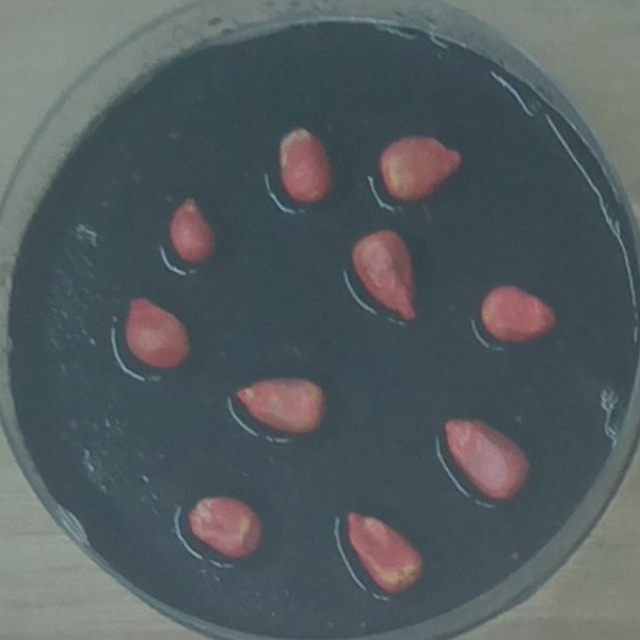Zea mays: (435, 409, 536, 508), (343, 220, 425, 328), (339, 502, 430, 599), (371, 129, 470, 210), (228, 369, 334, 443), (118, 290, 199, 377), (270, 117, 340, 214), (183, 487, 270, 565), (474, 276, 563, 352), (164, 190, 226, 270)
